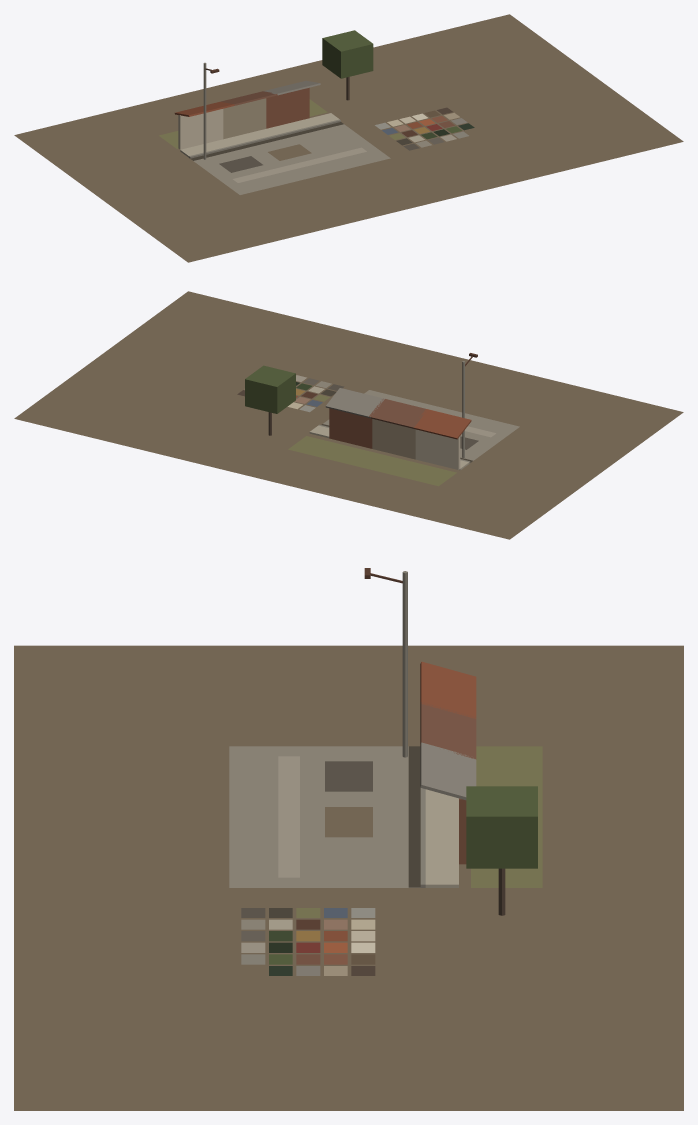
File: city_testplate.glb
The picture shows the model from 3 angles, top to bottom: view 1: azimuth 30°, elevation 25°; view 2: azimuth 150°, elevation 25°; view 3: azimuth 270°, elevation 25°; orthographic projection. The views are drawn at different scales.
Visible parts, largest first — view 1: SM_test_ground, SM_test_street, SM_test_tree_canopy, SM_test_wall_whitewash, SM_test_sidewalk, SM_test_wall_render, SM_test_wall_brick, SM_test_wheeltrack, SM_test_gutter, SM_test_curb, SM_test_asphalt, SM_test_dirt (+2 smaller); view 2: SM_test_ground, SM_test_grass, SM_test_tree_canopy, SM_test_street, SM_test_wall_whitewash, SM_test_wall_brick, SM_test_wall_render, SM_test_roof_whitewash, SM_test_roof_render, SM_test_roof_brick; view 3: SM_test_ground, SM_test_street, SM_test_tree_canopy, SM_test_grass, SM_test_sidewalk, SM_test_wheeltrack, SM_test_roof_brick, SM_test_roof_whitewash, SM_test_roof_render, SM_test_gutter, SM_test_asphalt, SM_test_dirt (+1 smaller).
Part boxes in pixels (x1,y1,x2,y2): SM_test_ground: [14, 14, 683, 262]; SM_test_street: [193, 124, 390, 194]; SM_test_tree_canopy: [322, 30, 373, 78]; SM_test_wall_whitewash: [178, 109, 223, 149]; SM_test_sidewalk: [180, 113, 339, 157]; SM_test_wall_render: [223, 98, 266, 139]; SM_test_wall_brick: [266, 87, 309, 128]; SM_test_wheeltrack: [233, 147, 366, 182]; SM_test_gutter: [190, 122, 343, 160]; SM_test_curb: [189, 119, 340, 158]; SM_test_asphalt: [219, 156, 262, 172]; SM_test_dirt: [268, 144, 311, 160]; SM_test_ground: [14, 291, 683, 539]; SM_test_grass: [288, 436, 456, 486]; SM_test_tree_canopy: [245, 365, 295, 413]; SM_test_street: [323, 390, 519, 460]; SM_test_wall_whitewash: [415, 429, 460, 469]; SM_test_wall_brick: [329, 408, 372, 448]; SM_test_wall_render: [372, 419, 415, 459]; SM_test_roof_whitewash: [414, 409, 471, 439]; SM_test_roof_render: [369, 398, 426, 428]; SM_test_roof_brick: [325, 388, 384, 418]; SM_test_ground: [14, 645, 683, 1110]; SM_test_street: [229, 746, 420, 887]; SM_test_tree_canopy: [466, 786, 537, 868]; SM_test_grass: [471, 746, 542, 887]; SM_test_sidewalk: [425, 789, 458, 887]; SM_test_wheeltrack: [278, 756, 299, 877]; SM_test_roof_brick: [420, 742, 476, 800]; SM_test_roof_whitewash: [420, 661, 476, 718]; SM_test_roof_render: [420, 702, 476, 759]; SM_test_gutter: [408, 746, 420, 887]; SM_test_asphalt: [325, 761, 372, 791]; SM_test_dirt: [325, 807, 372, 837].
Bounding box in the file's own units: 46 × 8.54 × 28.
